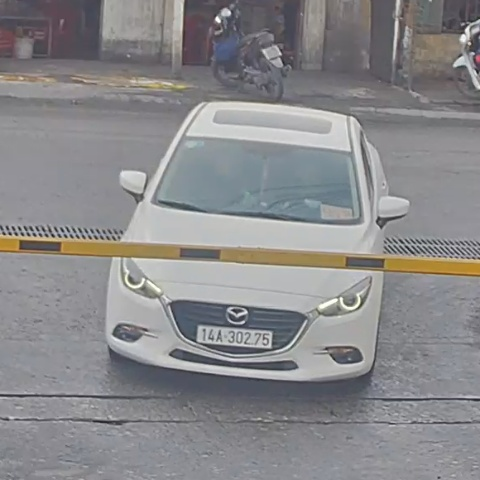vehicle plate: (190, 316, 284, 359)
